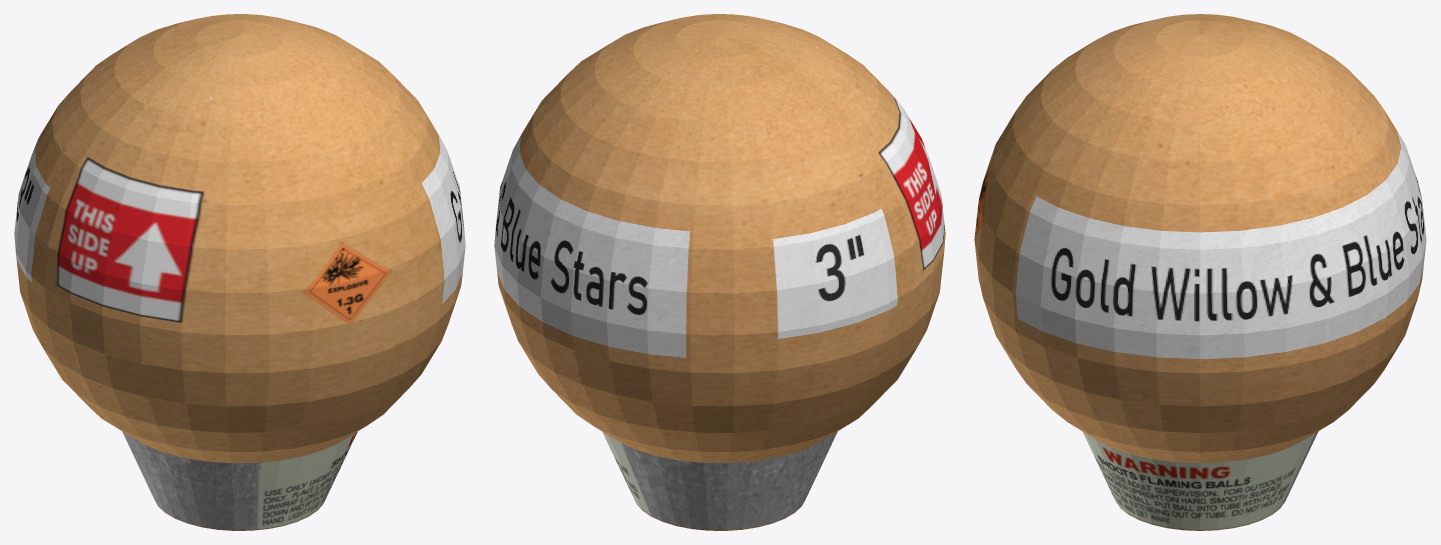
The model's file is Shell Ball 3 Inch GoldWillowBlueStars.fbx.
3 renders of one model, left to right at view 1: azimuth 30°, elevation 25°; view 2: azimuth 150°, elevation 25°; view 3: azimuth 270°, elevation 25°, orthographic.
Parts seen in each view (by area): view 1: Sphere; view 2: Sphere; view 3: Sphere.
Boxes of the visible parts, x1,y1,x2,y2 form: Sphere: [14, 14, 465, 530]; Sphere: [494, 14, 945, 530]; Sphere: [974, 14, 1426, 530].
Bounding box in the file's own units: 14 × 16.23 × 14.
